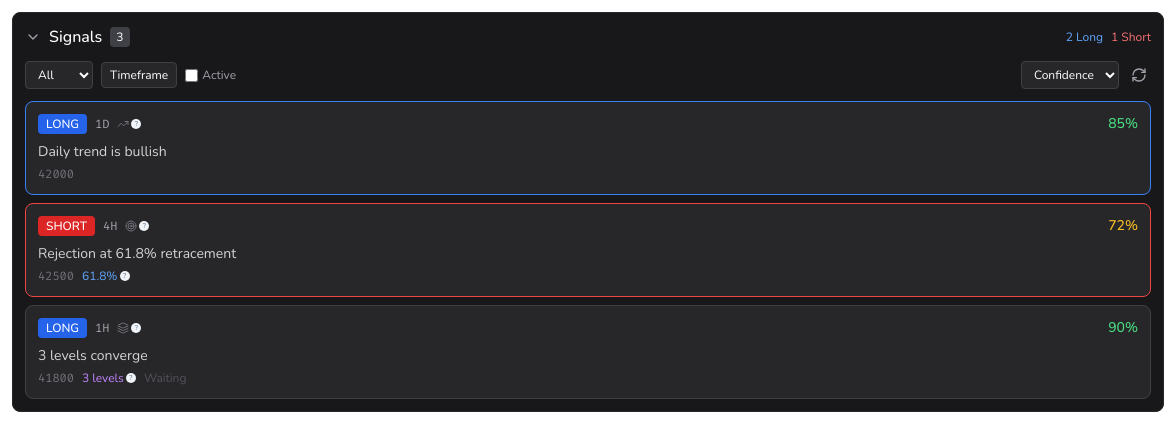
Test: SignalsPanel › collapsible › should toggle content visibility
Expected: the text "Daily trend is bullish" is shown, [38,142,167,161]
# Click to collapse
Click the button "Signals 3 2 Long 1 Short". click: (76,37)
box: [13,13,1163,61]
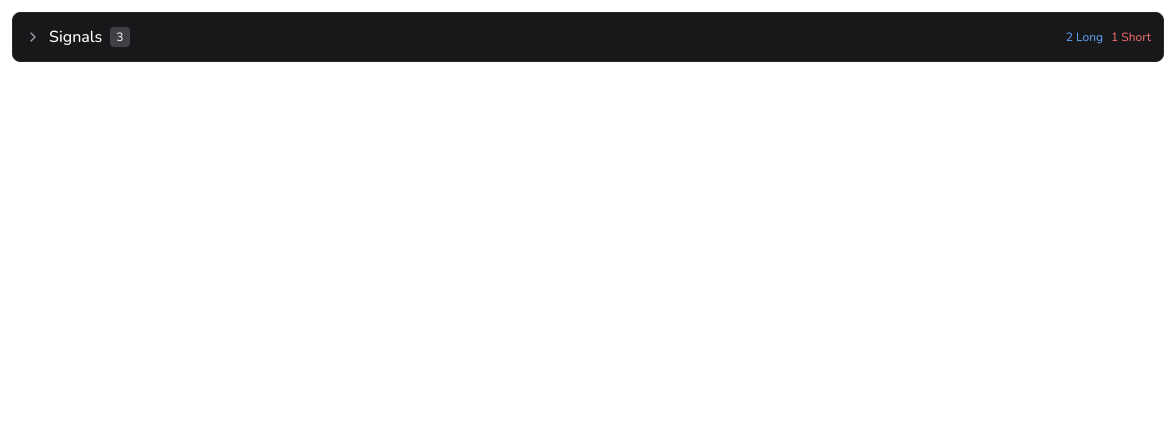
Expected: the button "Daily trend is bullish" is gone
